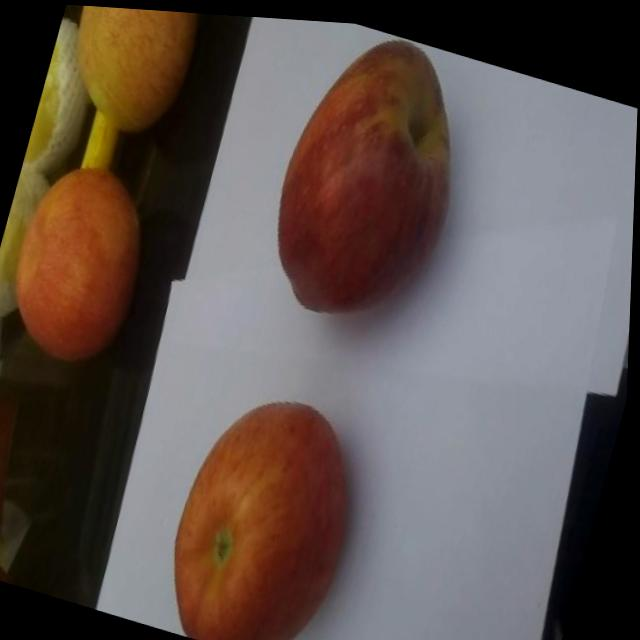Apple: (252, 14, 485, 338), (152, 370, 374, 640), (0, 148, 171, 378), (51, 3, 218, 152)
